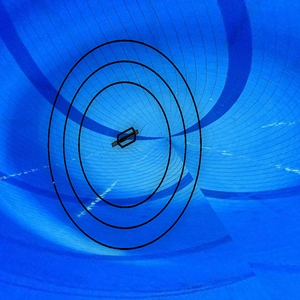circle: (45, 37, 207, 263)
submarine: (106, 124, 144, 154)
